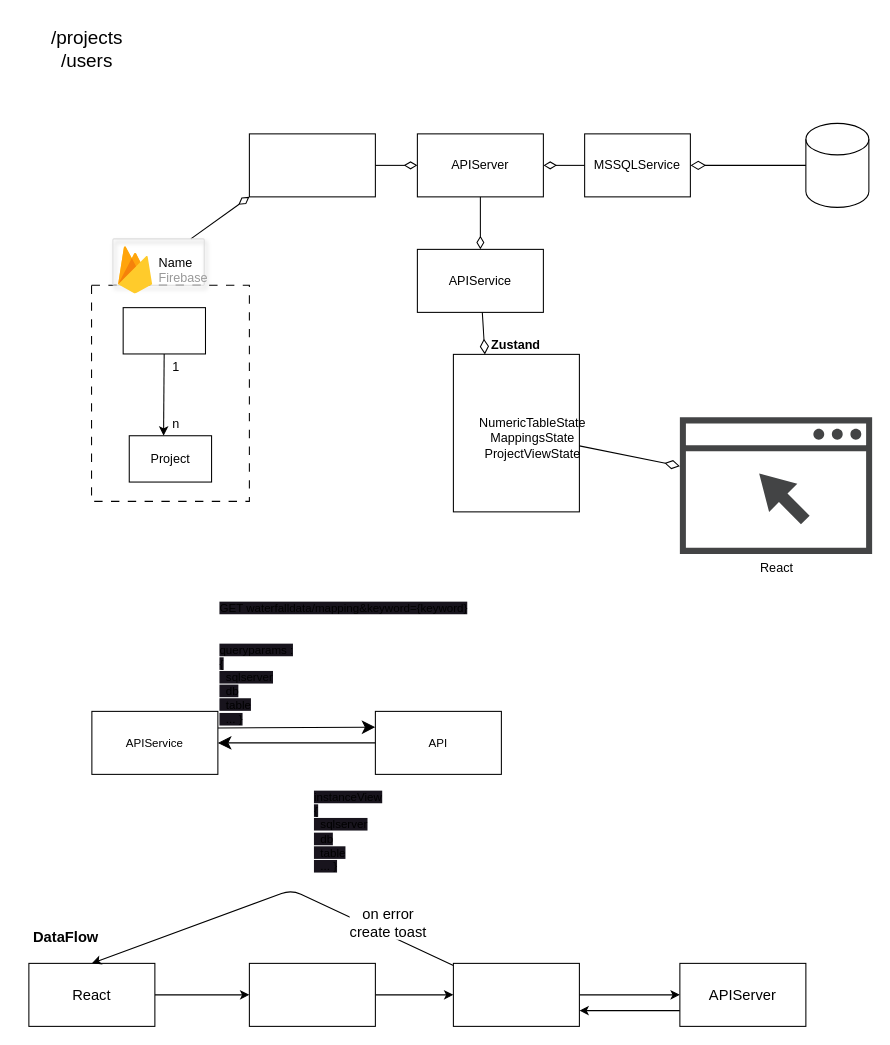
This 890x1045 diagram has some shape labels left out. Each missing label, with the centre of its shape:
APIClient: pixel 515 994
Firebase Service: pixel 311 165
mssql: pixel 837 164
State: pixel 311 994
User: pixel 163 330
